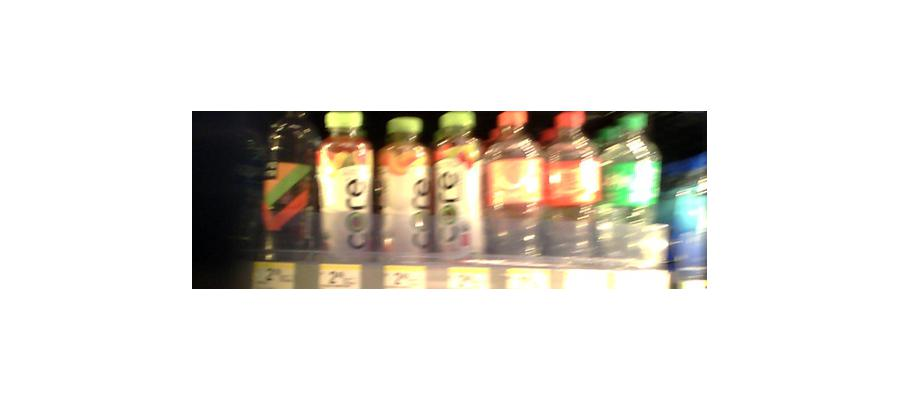bottle: (598, 112, 659, 263), (317, 109, 378, 257), (483, 107, 541, 261), (429, 109, 483, 262), (544, 110, 598, 262), (262, 108, 313, 259), (378, 118, 427, 262)
